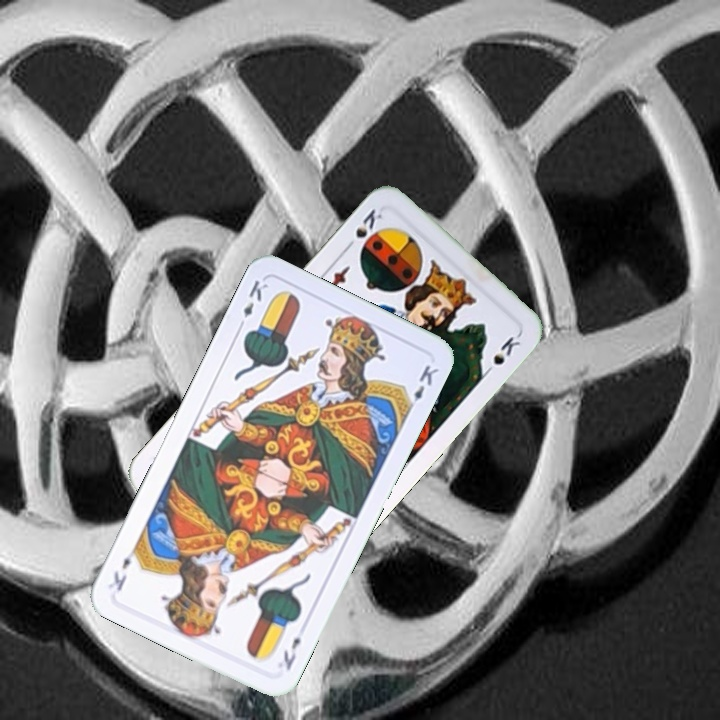EK: (233, 276, 271, 332), (279, 633, 304, 673)
SK: (340, 204, 385, 255)
